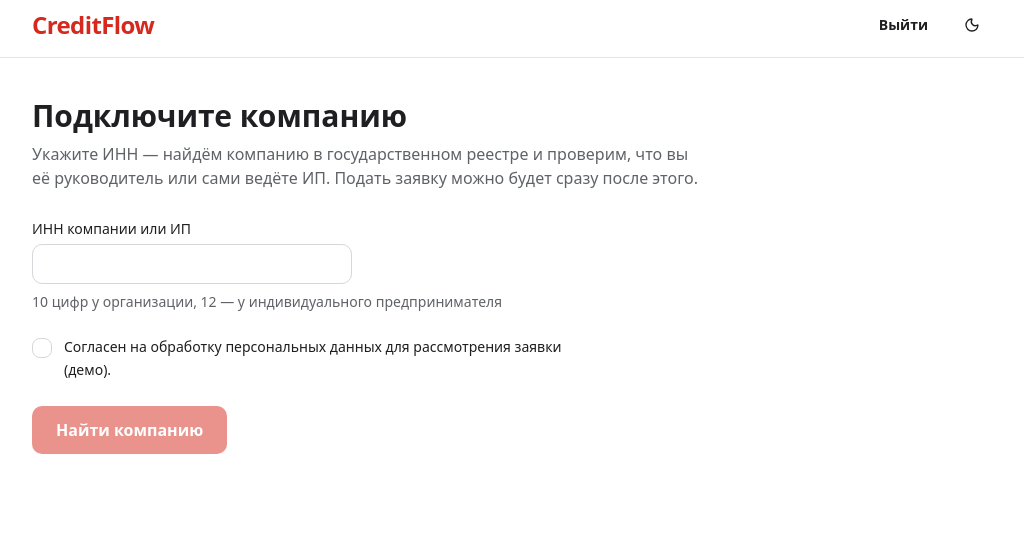
Scenario: привязка компании › реестр недоступен — объяснение и «Повторить»
Expected: the heading "Подключите компанию" is shown, [32,95,407,136]
In the field labelled "ИНН компании или ИП": (192, 264) [32,244,352,284], type "0099020010"
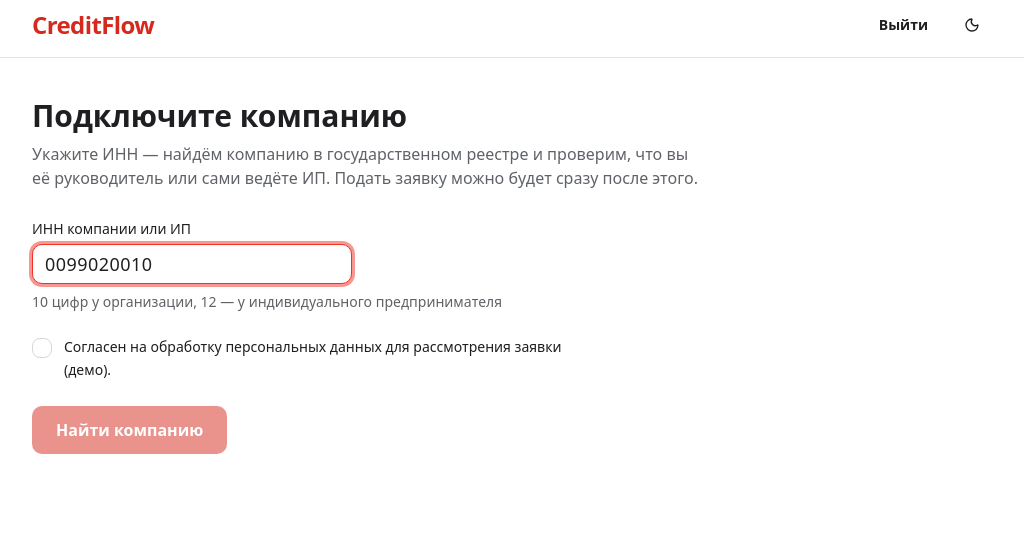
Click the checkbox: (42, 348) [32,338,52,358]
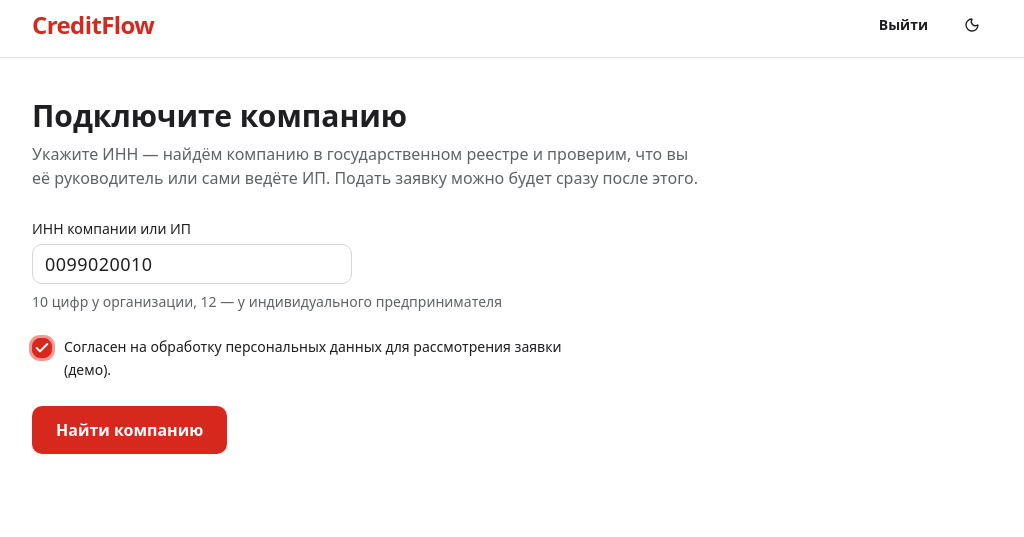
Click the button "Найти компанию": (130, 430) [32,406,227,454]
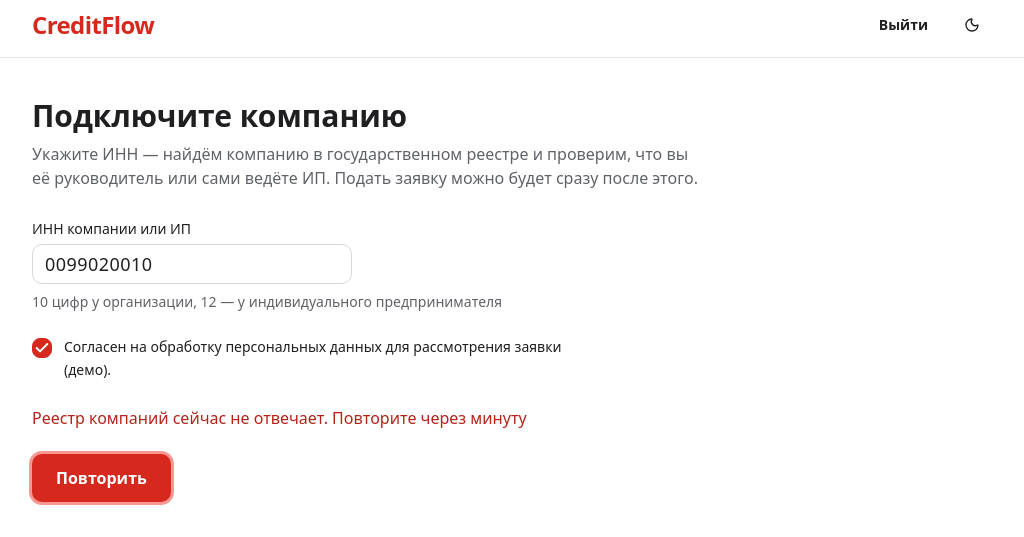
Now the message shows "Реестр компаний сейчас не отвечает", box [32,406,527,428]
Click the button "Повторить": (101, 478) [32,454,171,502]
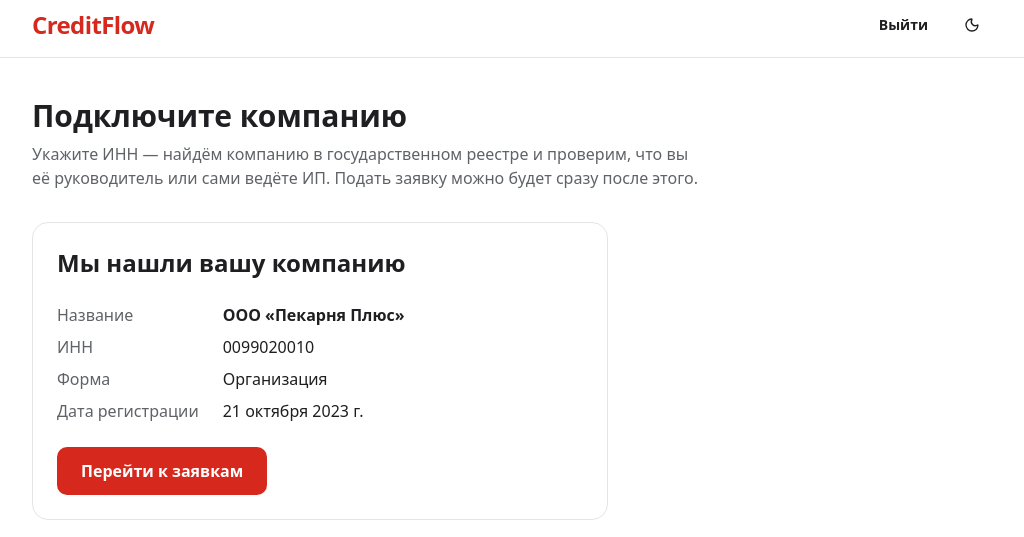
Now the heading "Мы нашли вашу компанию" is shown, box [57,246,406,279]
